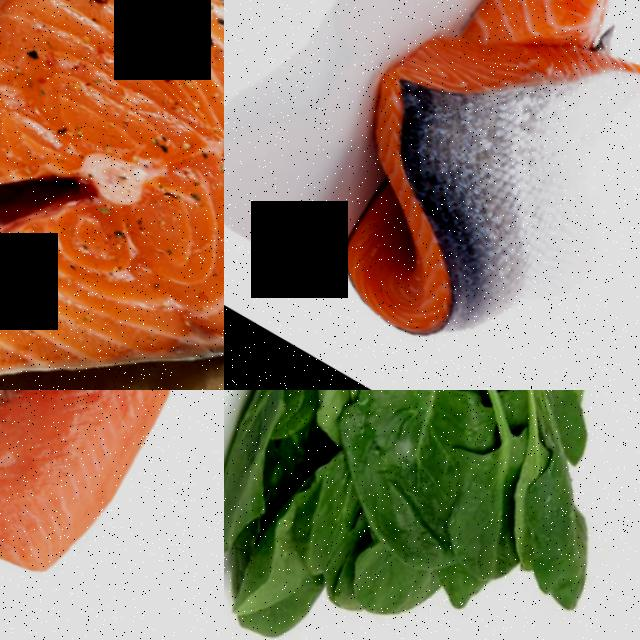salmon: (274, 0, 640, 376), (0, 0, 224, 390), (0, 390, 224, 601), (485, 0, 640, 45)
spinach: (495, 445, 640, 614), (335, 390, 505, 512), (438, 423, 558, 580), (291, 448, 389, 566), (339, 535, 450, 635), (225, 535, 321, 636)
